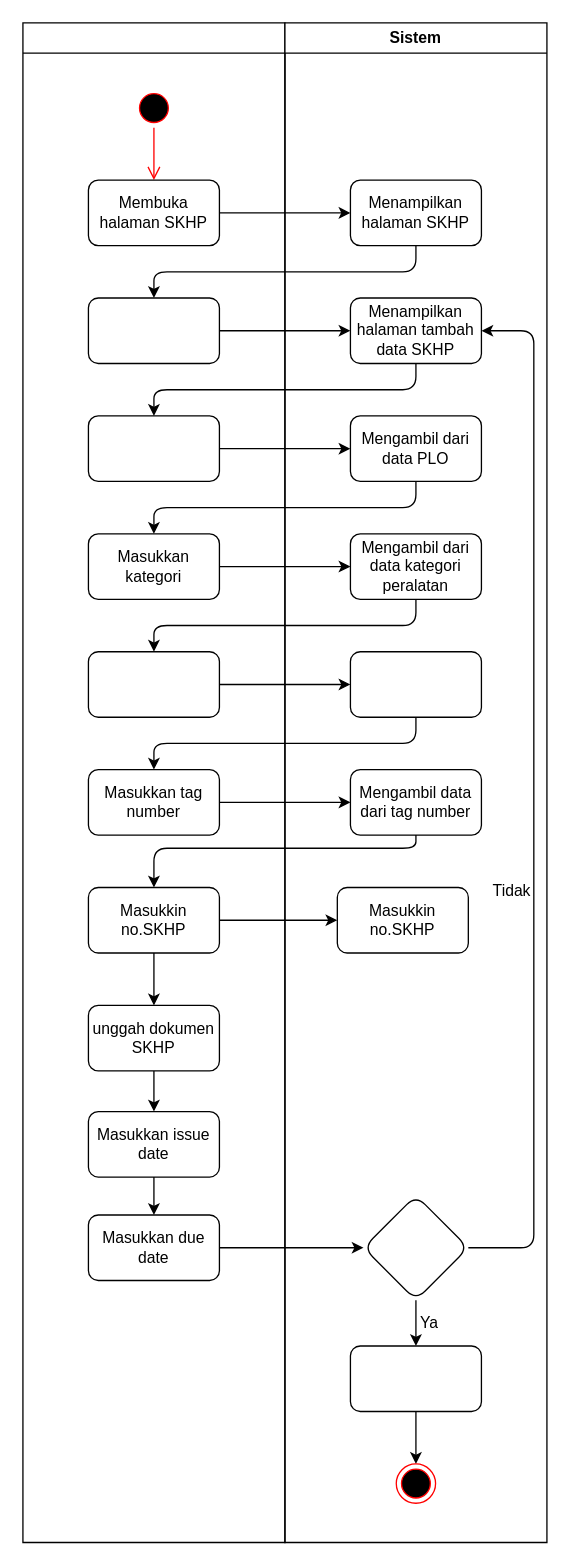
Some shapes in this 570 by 1565 pixel diagram are drawn without their labels. The box of each missing label's shape, as (x1, y1, x2, y2) in pixels:
Data berhasil tersimpan: (349, 1345, 481, 1412)
Masukkan PLO: (87, 415, 219, 481)
Masukkan tipe: (87, 650, 219, 717)
Memilih tombol tambah: (87, 297, 219, 364)
Mengambil dari data tipe peralatan: (349, 650, 481, 717)
User: (22, 22, 285, 1543)
Validasi: (362, 1194, 468, 1300)
